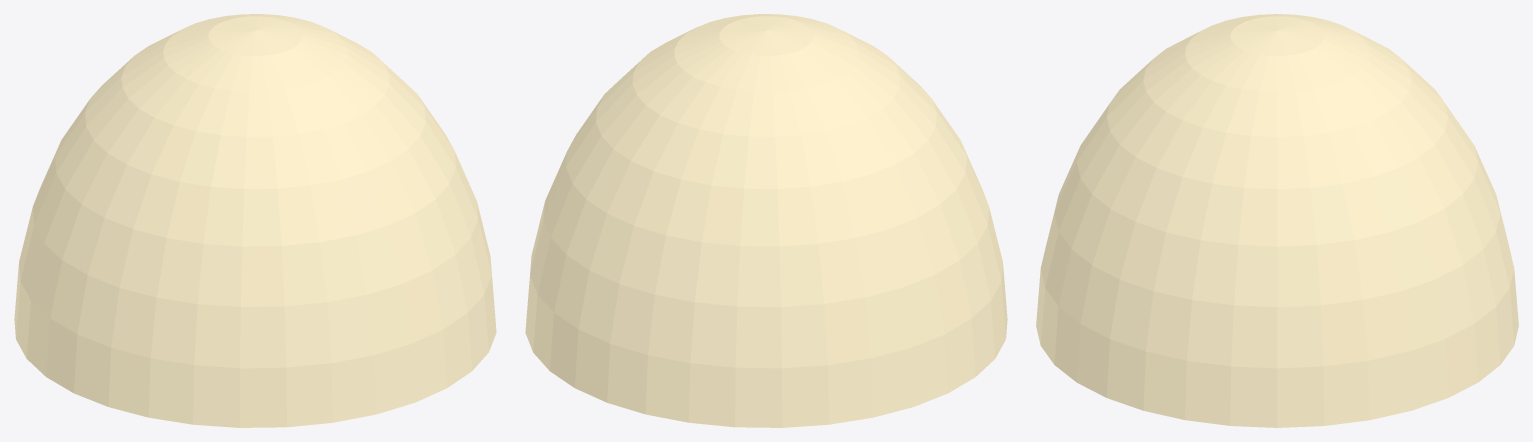
File: fx-sanctuary.glb
The picture shows the model from 3 angles, left to right: view 1: azimuth 30°, elevation 25°; view 2: azimuth 150°, elevation 25°; view 3: azimuth 270°, elevation 25°; orthographic projection.
Visible parts, largest first — view 1: Sanctuary_dome; view 2: Sanctuary_dome; view 3: Sanctuary_dome.
Boxes of the visible parts, x1,y1,x2,y2 form: Sanctuary_dome: (14, 14, 496, 427); Sanctuary_dome: (525, 14, 1007, 427); Sanctuary_dome: (1036, 14, 1518, 427).
Bounding box in the file's own units: 1.5 × 1.01 × 1.5.
Materials: 1 (1 with a texture image).
